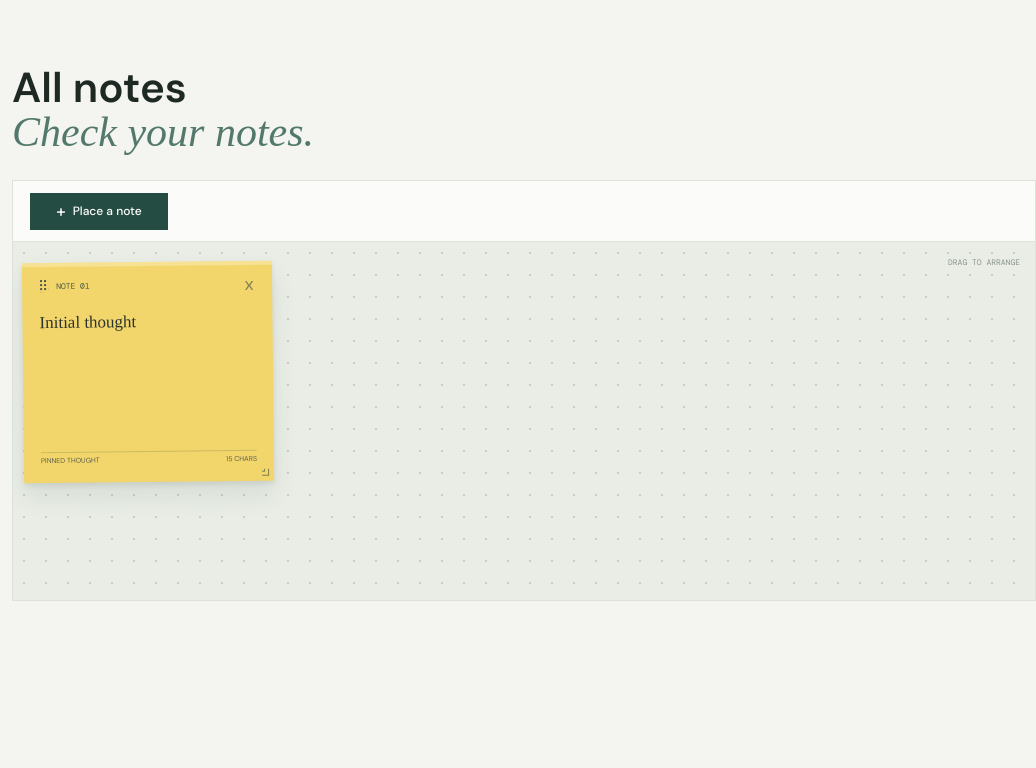
Test: NotesBoard › edits and deletes a note
Replace the text in the text box named "Note text" with "Updated thought" at (148, 377), box top-left (39, 302), bottom-right (257, 452)
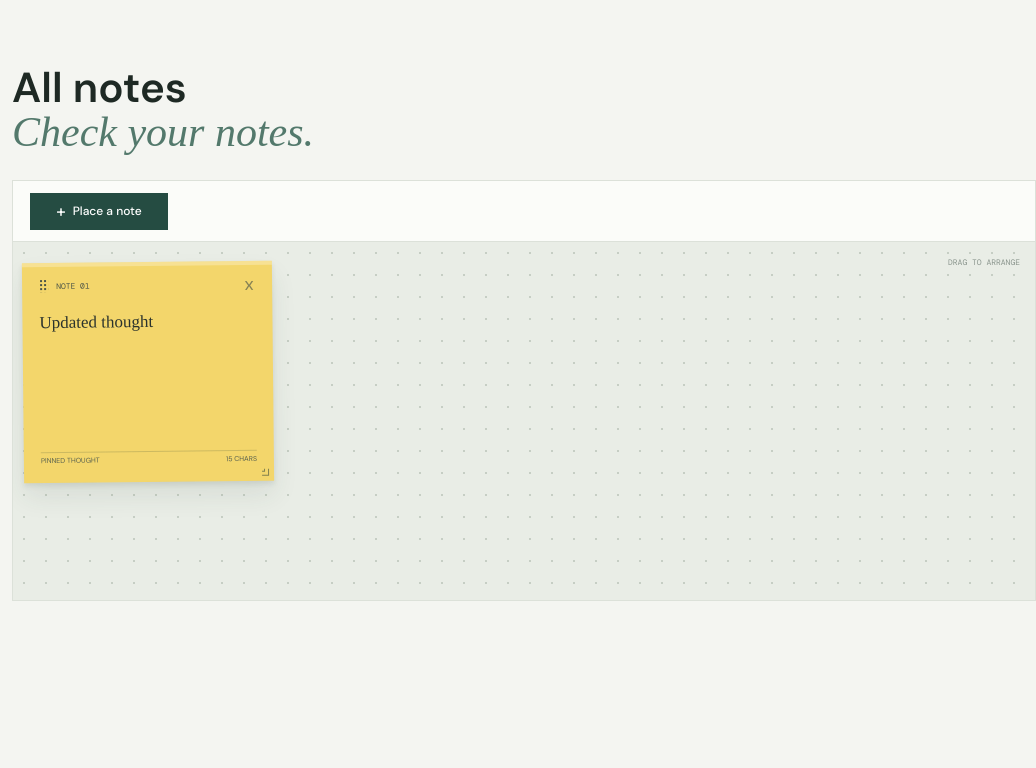
Expected: the text "15 CHARS" is shown, top-left (226, 454), bottom-right (257, 465)
Click the button named "Delete note" at (249, 283), box top-left (236, 270), bottom-right (262, 297)
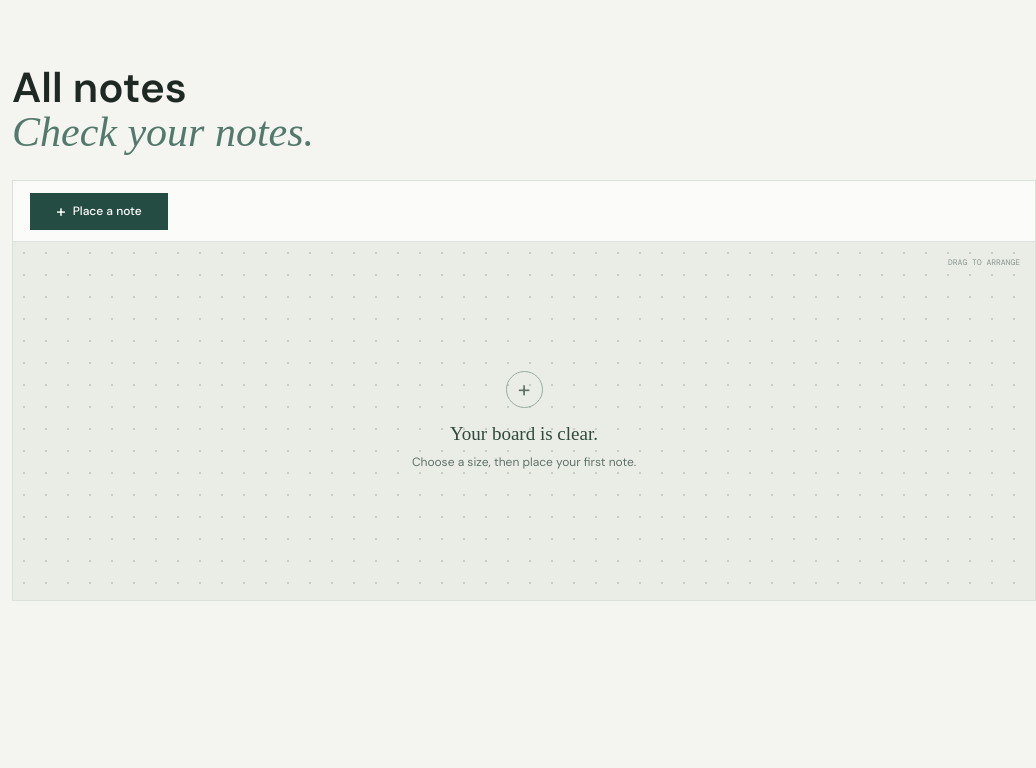
Expected: the text "Your board is clear." is shown, top-left (450, 420), bottom-right (598, 448)
